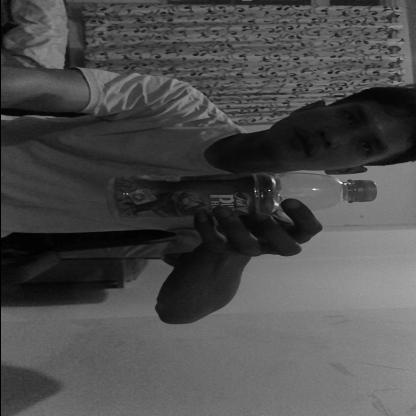plastic_bottles: (108, 172, 378, 221)
